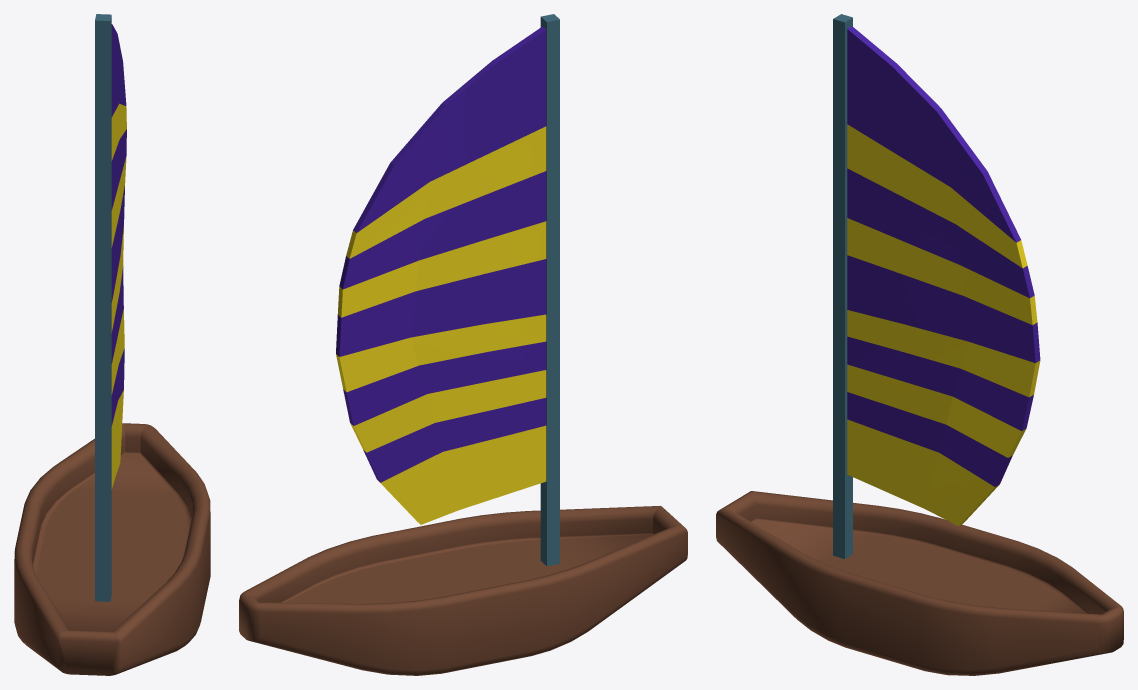
File: boat 2.fbx
The picture shows the model from 3 angles, left to right: view 1: azimuth 30°, elevation 25°; view 2: azimuth 150°, elevation 25°; view 3: azimuth 270°, elevation 25°; orthographic projection. The views are drawn at different scales.
Parts seen in each view (by area): view 1: Cube.046; view 2: Cube.046; view 3: Cube.046.
Boxes of the visible parts, box(x1,y1,x2,y2) form: Cube.046: box(14, 14, 210, 675); Cube.046: box(239, 14, 687, 675); Cube.046: box(716, 14, 1123, 675).
Bounding box in the file's own units: 8.22 × 17.41 × 10.94.
Materials: 1 (1 with a texture image).
